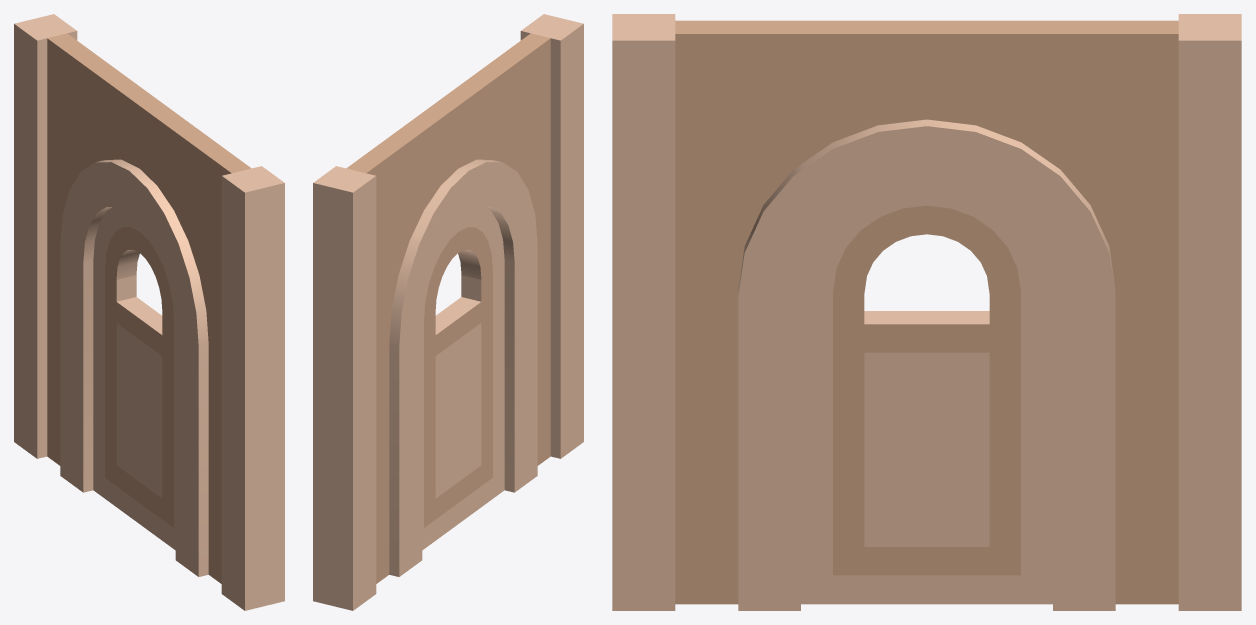
3 renders of one model, left to right at view 1: azimuth 30°, elevation 25°; view 2: azimuth 150°, elevation 25°; view 3: azimuth 270°, elevation 25°, orthographic. The views are drawn at different scales.
Parts seen in each view (by area): view 1: wallWoodDoor, door; view 2: wallWoodDoor, door; view 3: wallWoodDoor, door.
Part boxes in pixels (box(x1,y1,x2,y2)): wallWoodDoor: box(14, 14, 284, 610); door: box(93, 207, 175, 550); wallWoodDoor: box(313, 14, 583, 610); door: box(422, 207, 504, 550); wallWoodDoor: box(612, 14, 1241, 610); door: box(801, 183, 1052, 604).
Bounding box in the file's own units: 0.1 × 1 × 1.
